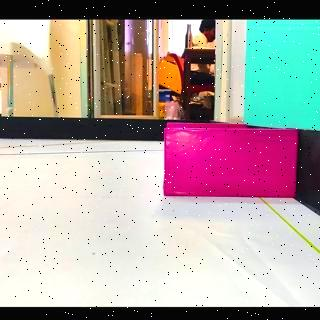xparking: (165, 128, 292, 197)
